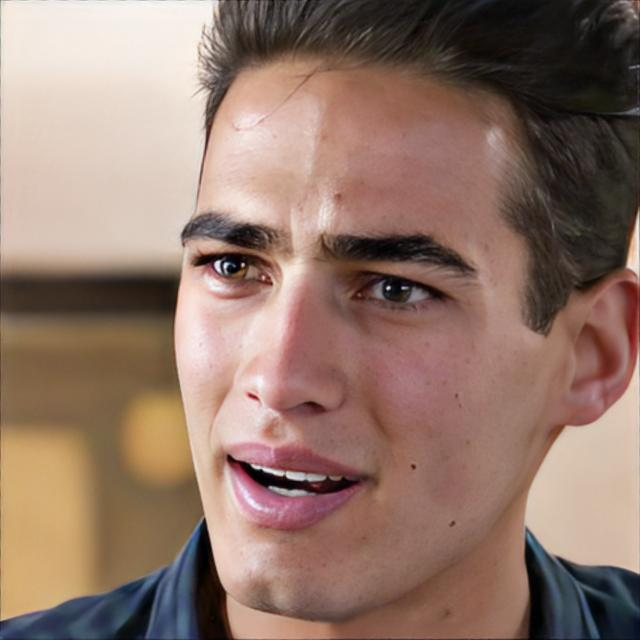sad: (169, 48, 553, 627)
